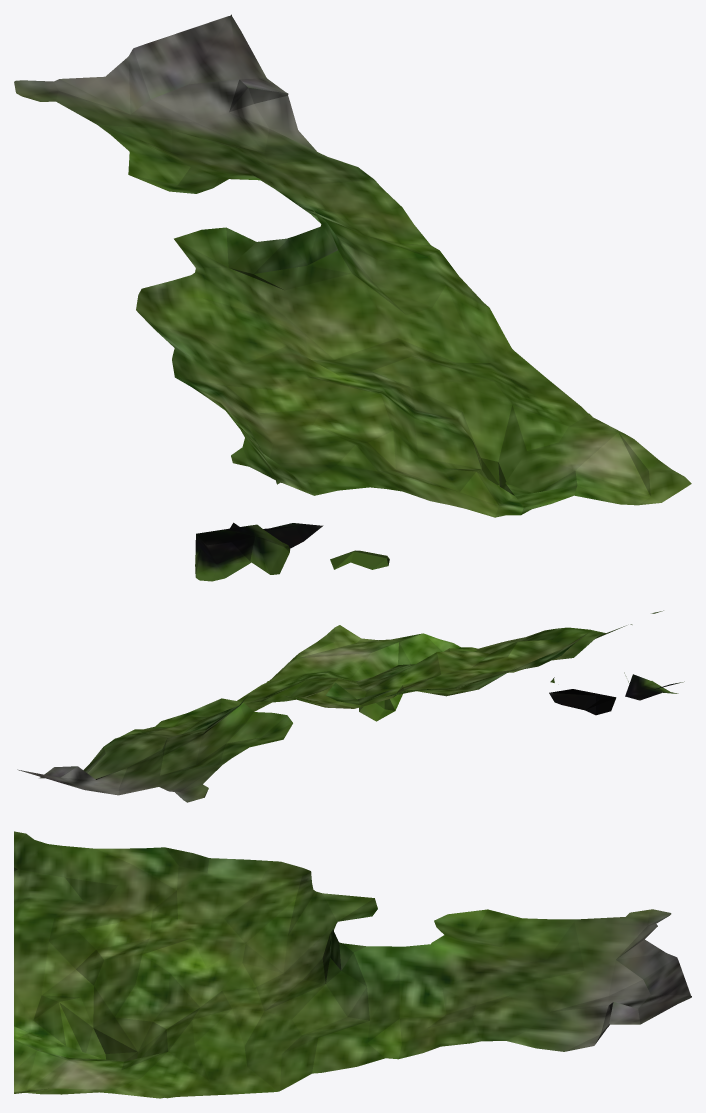
The picture shows the model from 3 angles, top to bottom: view 1: azimuth 30°, elevation 25°; view 2: azimuth 150°, elevation 25°; view 3: azimuth 270°, elevation 25°; orthographic projection. The views are drawn at different scales.
Size of the model in its own units: 1.41 by 0.4969 by 2.26.
Materials: 1 (1 with a texture image).
